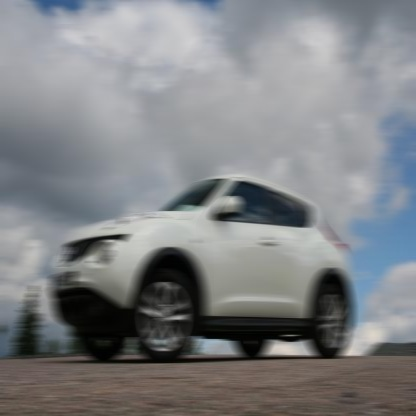Vehicle: (49, 174, 353, 361)
